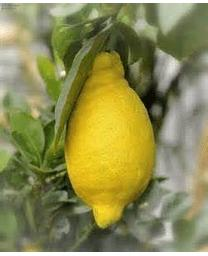lemon: (64, 50, 155, 228)
